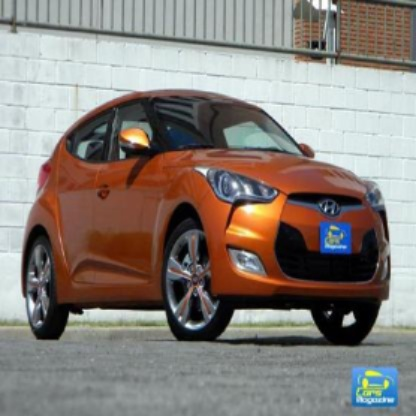Vehicle: (20, 86, 394, 346)
